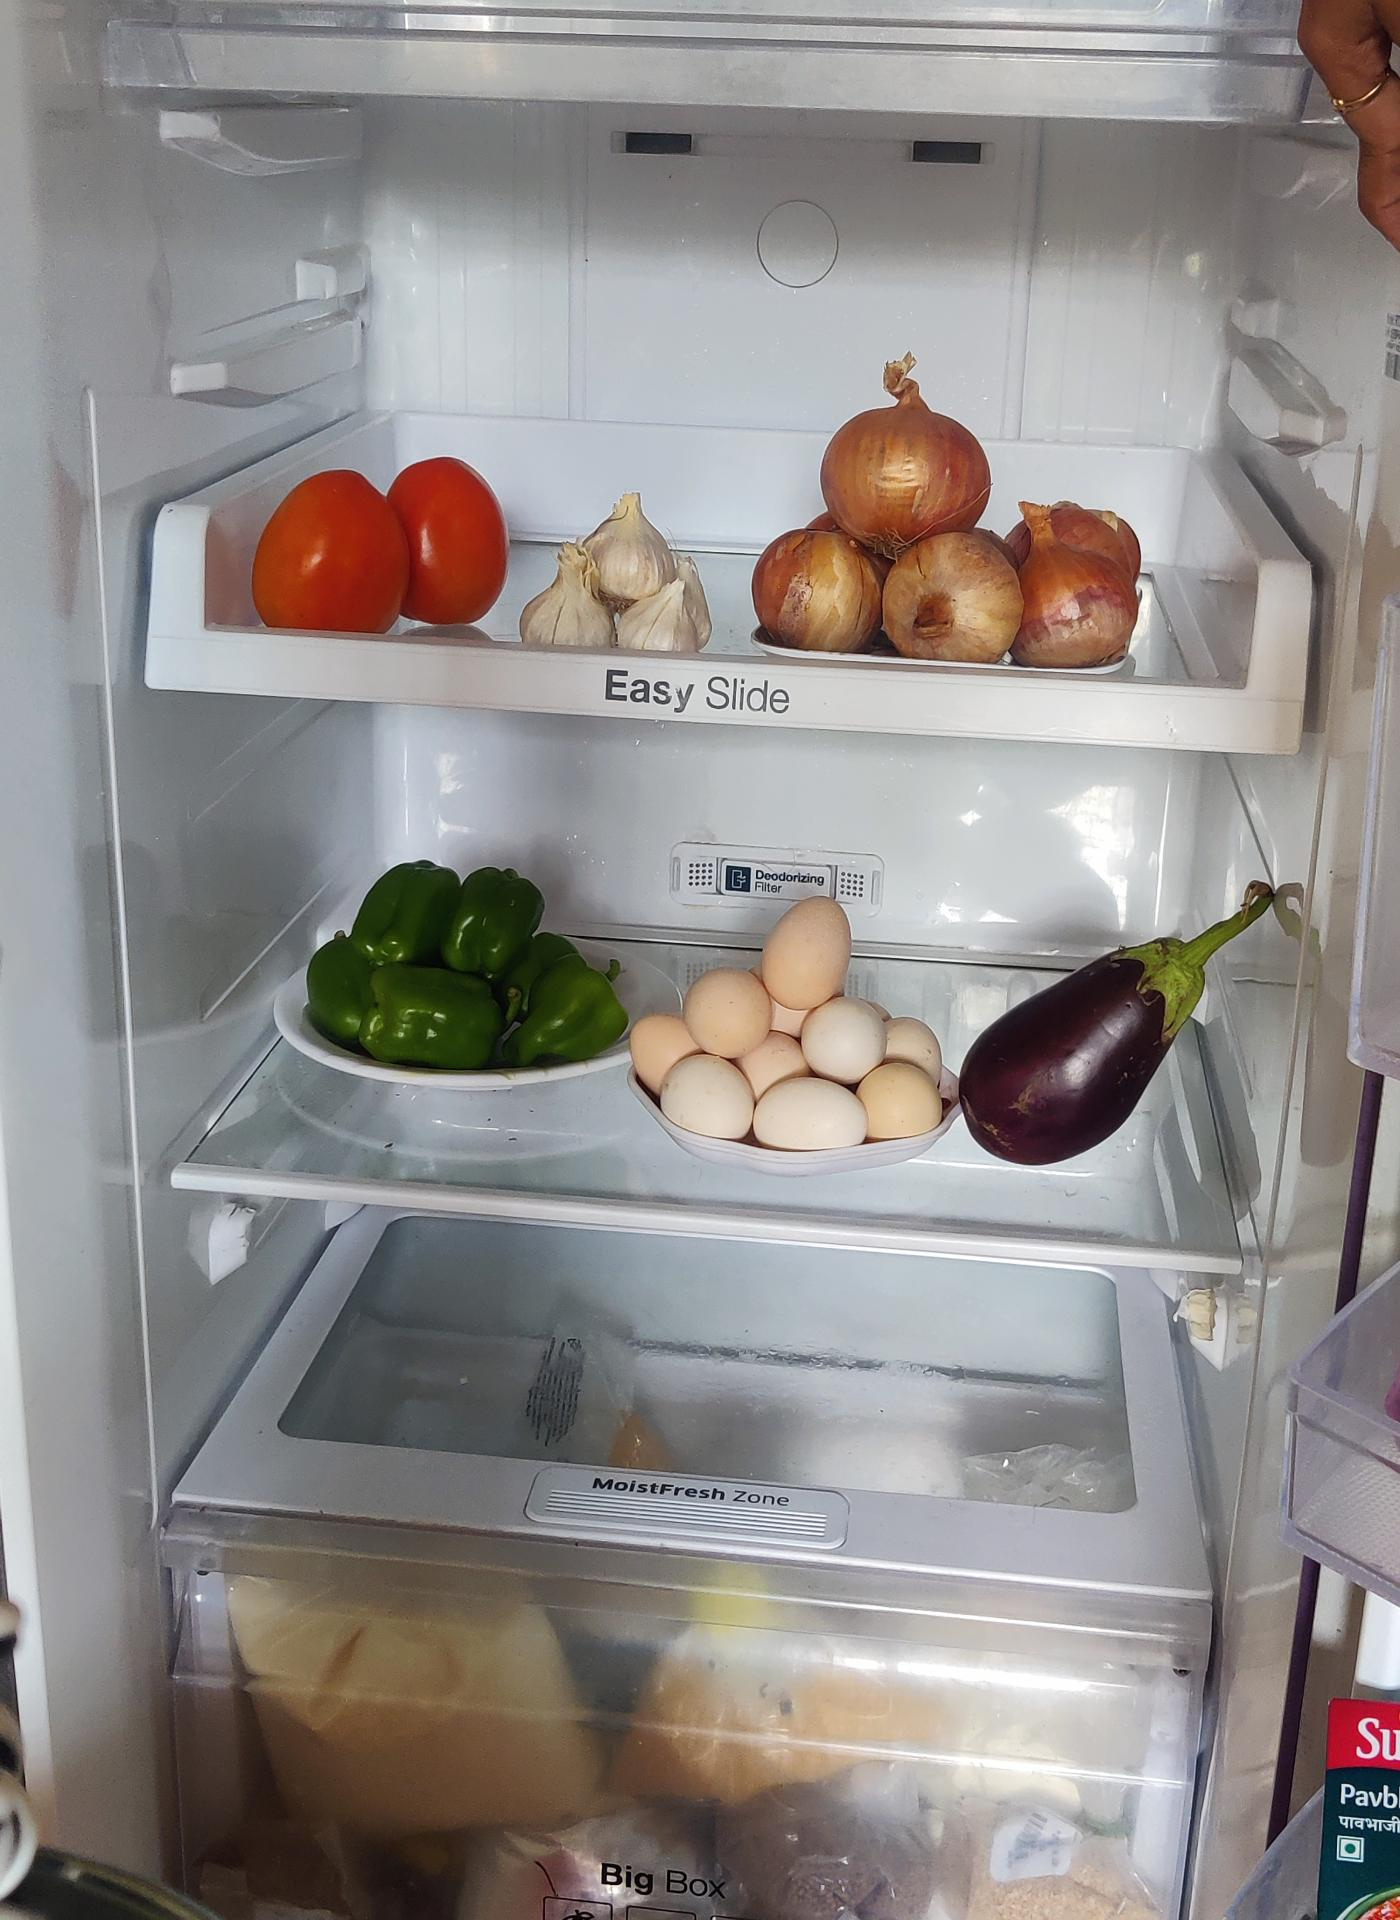brinjal: (957, 890, 1270, 1163)
capsicum: (310, 856, 628, 1070)
egg: (632, 894, 948, 1152)
garlic: (519, 486, 714, 653)
onion: (748, 405, 1154, 669)
tomato: (258, 449, 496, 634)
